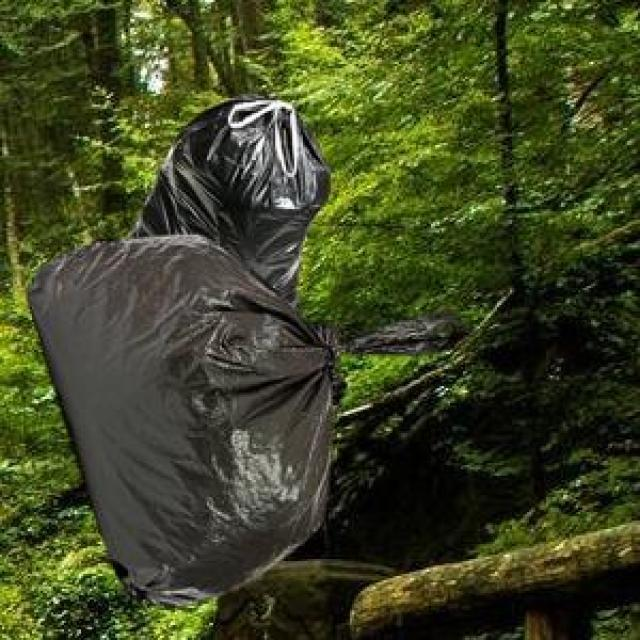waste: (30, 98, 335, 601)
